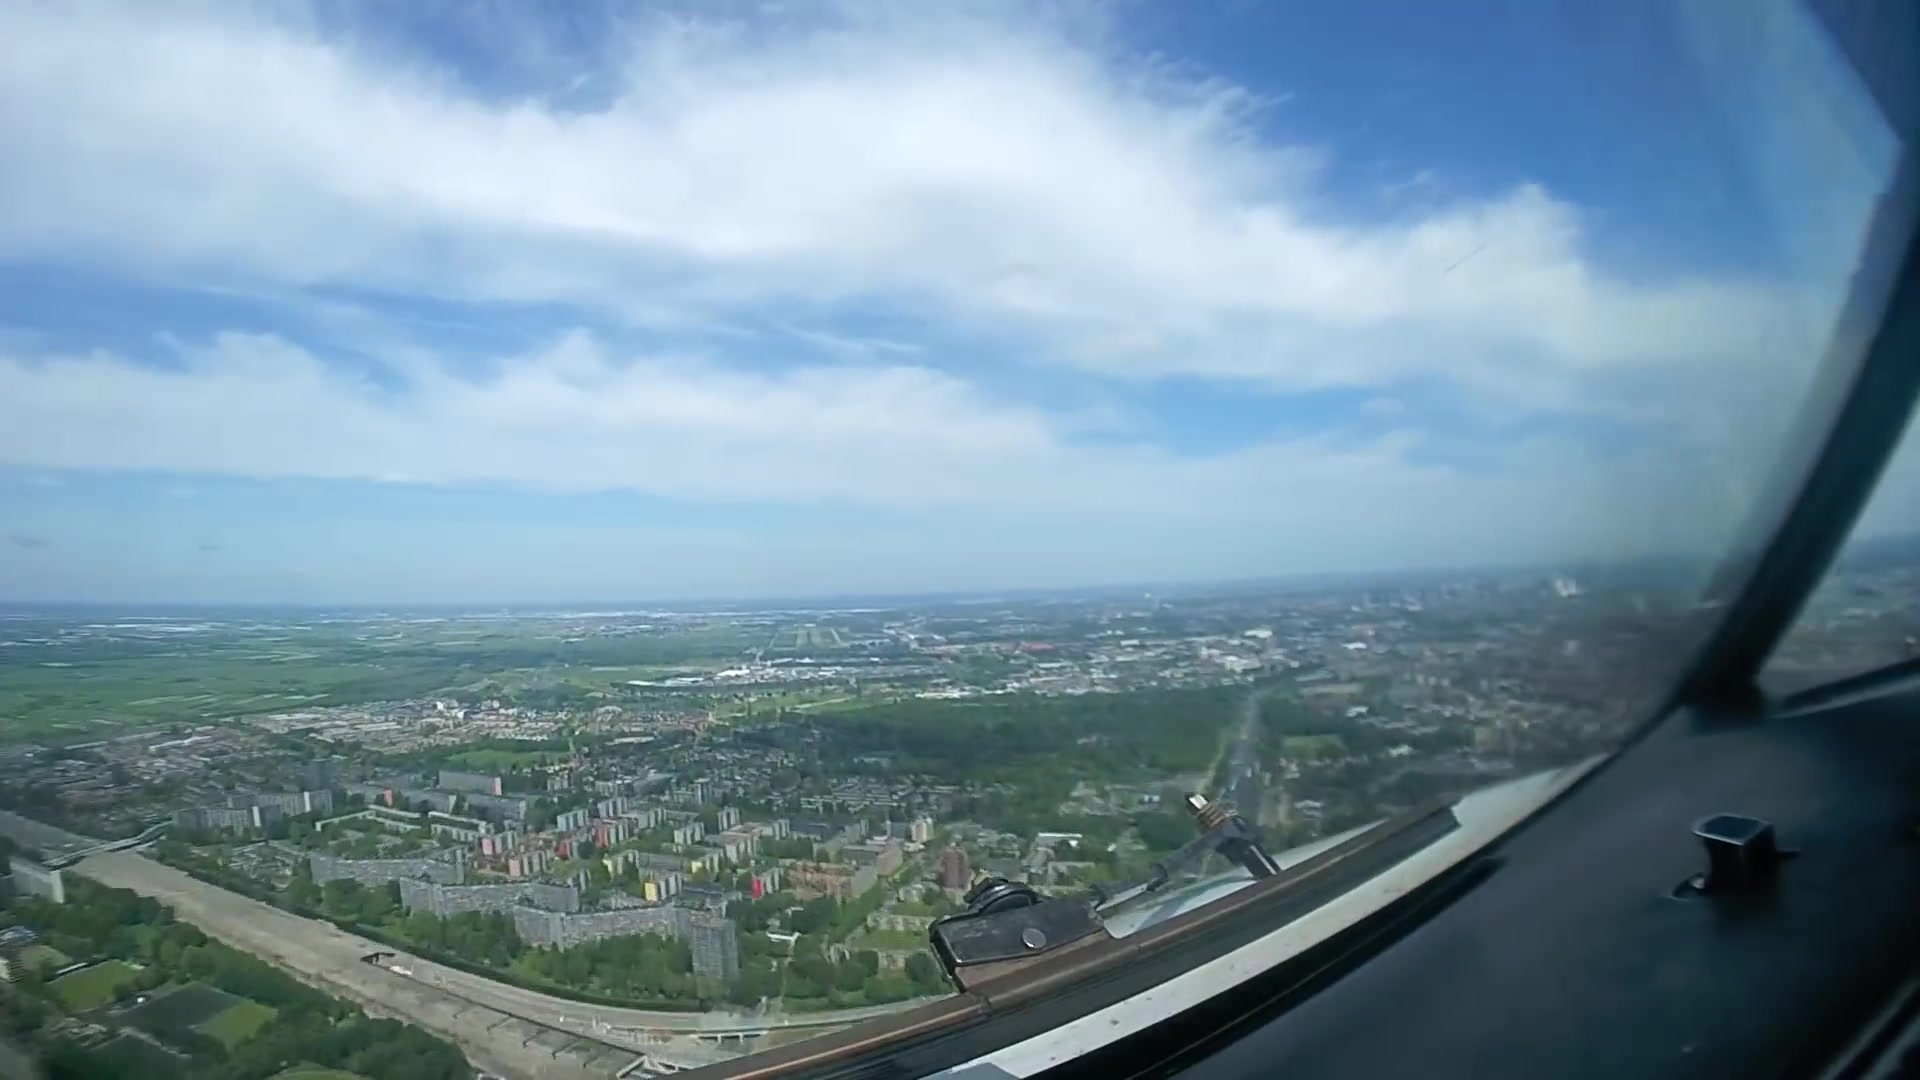runway: (803, 624, 822, 651)
